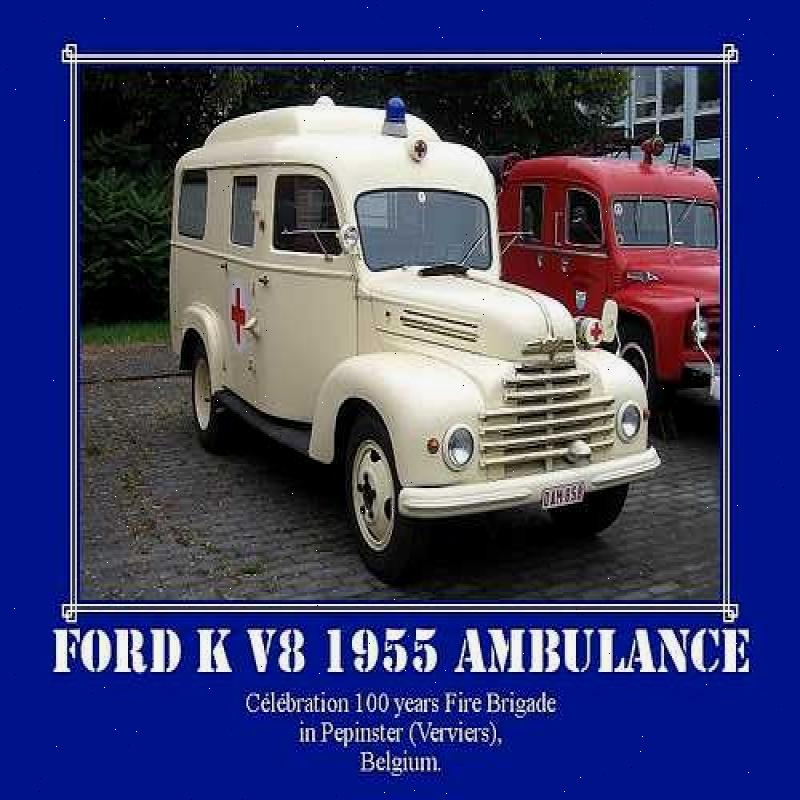AmbulanceSiren: (371, 93, 421, 149)
